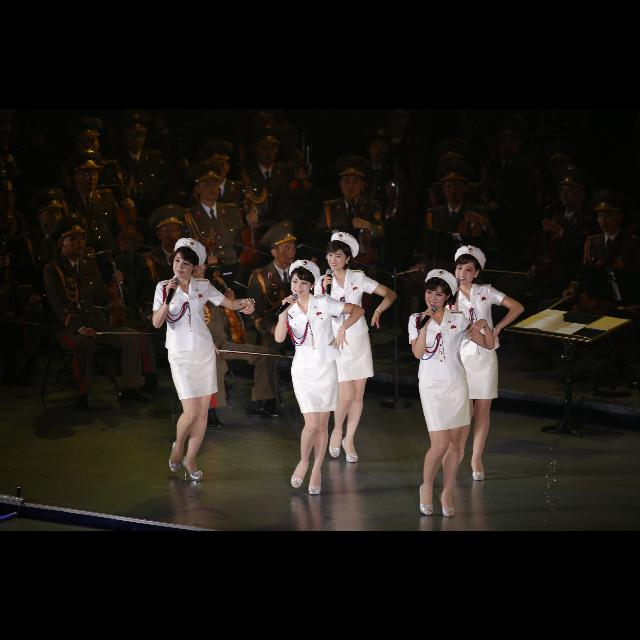head: (425, 272, 453, 310), (454, 252, 482, 286), (269, 231, 297, 265), (172, 248, 200, 280), (560, 175, 588, 207), (71, 157, 99, 189), (156, 215, 182, 248), (596, 202, 624, 232), (202, 150, 230, 180), (326, 238, 352, 270), (36, 198, 62, 230), (58, 228, 86, 256), (338, 170, 366, 198), (289, 269, 315, 299), (442, 172, 468, 202), (194, 172, 220, 200), (121, 124, 147, 150), (253, 137, 279, 163), (367, 133, 391, 161), (77, 130, 101, 156), (186, 257, 207, 279)
person: (386, 265, 502, 519), (147, 234, 259, 486), (302, 227, 401, 466), (271, 256, 367, 502), (434, 240, 530, 484), (241, 216, 351, 418), (39, 224, 145, 431), (174, 249, 280, 431), (22, 186, 118, 370), (139, 200, 229, 392), (520, 165, 600, 378), (425, 146, 513, 338), (420, 168, 502, 374), (62, 114, 152, 300), (56, 154, 150, 330), (172, 164, 274, 326), (316, 153, 392, 357), (340, 128, 412, 314), (181, 138, 269, 290), (101, 118, 185, 266), (243, 113, 313, 280)
